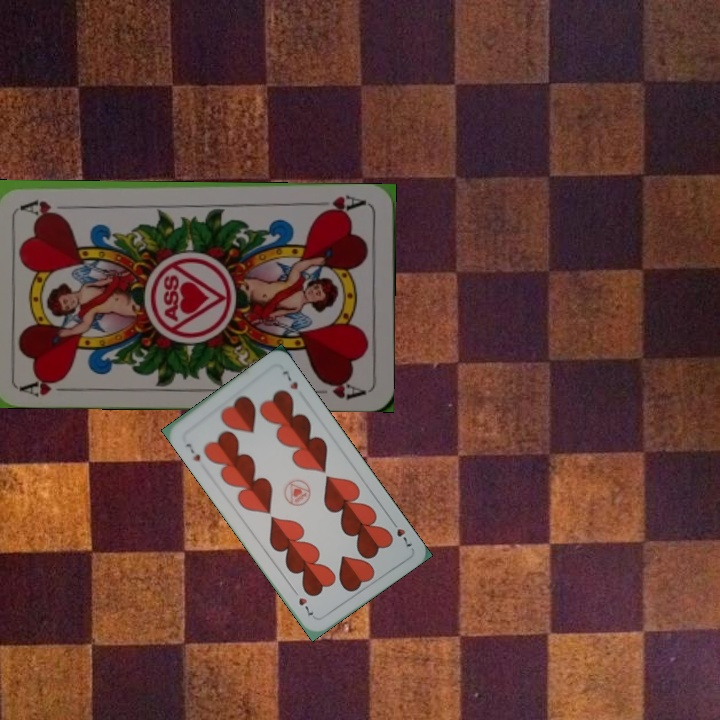H7: (386, 515, 415, 549), (182, 439, 203, 464)
HA: (18, 373, 78, 400), (315, 191, 369, 217)
